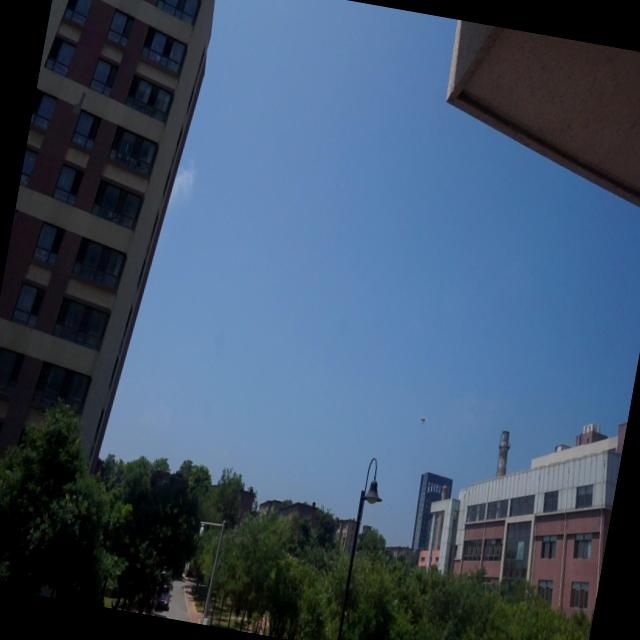drone: (417, 410, 428, 430)
